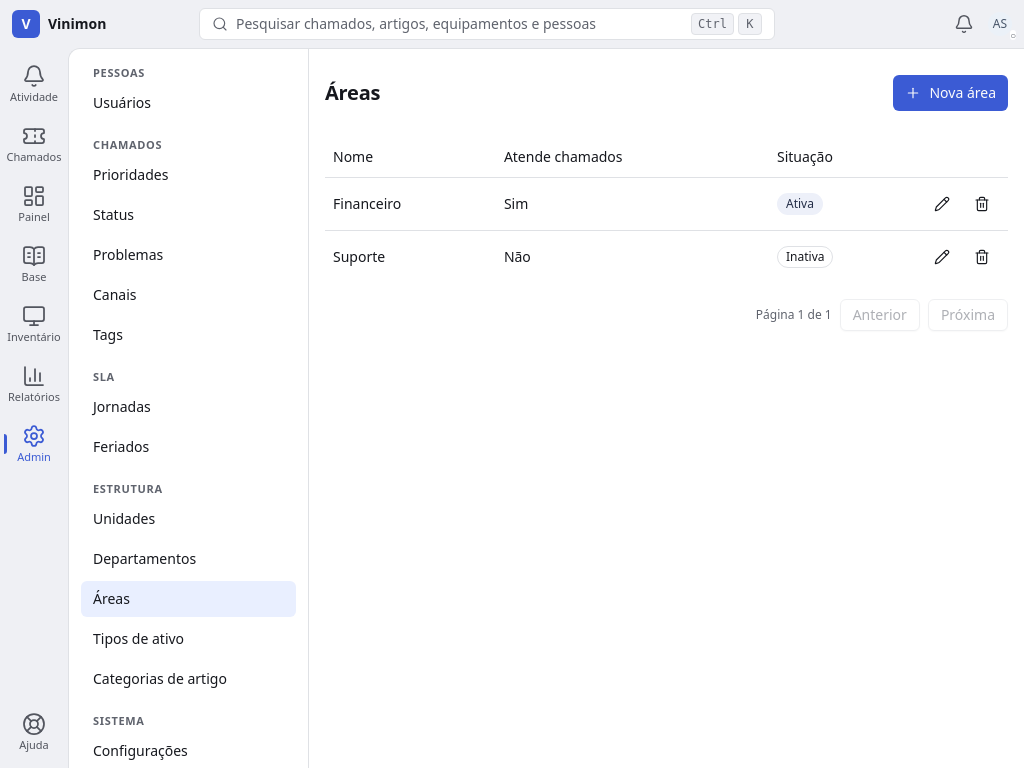
it: /admin/areas › (b) excluir confirma e faz DELETE /areas/:id
What coordinates should you click on to do the following:
click the button named "Excluir Financeiro"
I would click on:
 (982, 204)
Its box is [964,186,1000,222].
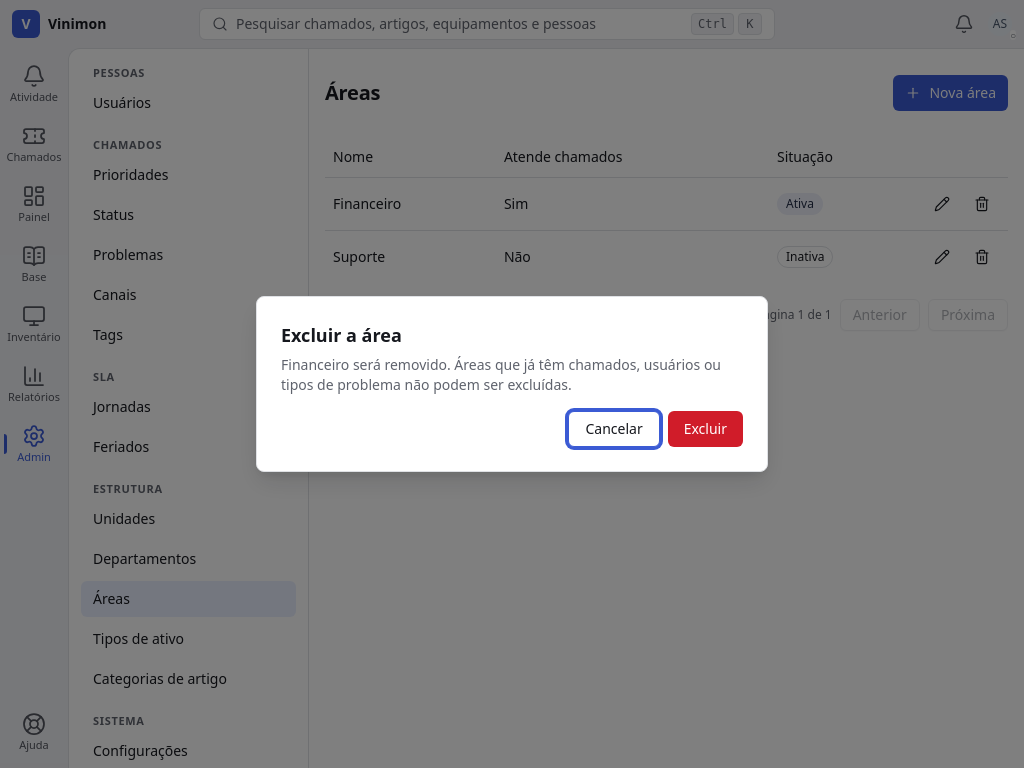
What coordinates should you click on to do the following:
click the button "Excluir"
I would click on:
 (705, 429)
Its box is [668,411,743,447].
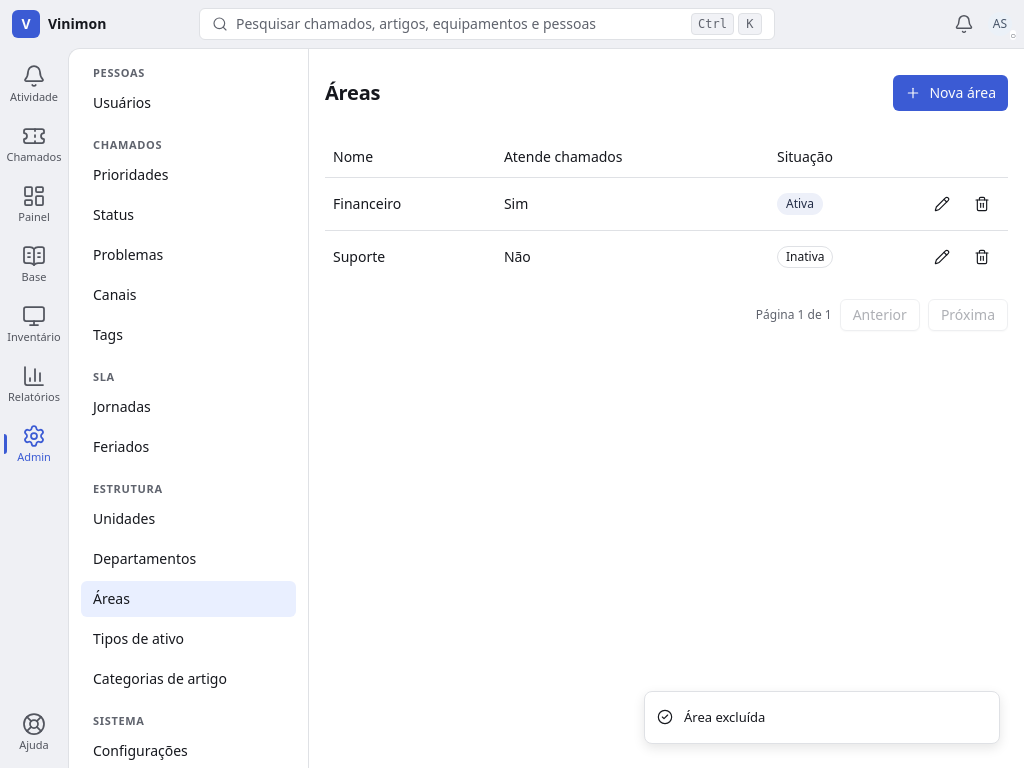
Expected: the text "Área excluída" is shown, [684,708,765,727]
